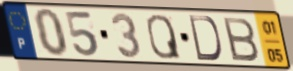0: (31, 7, 71, 59)
3: (109, 10, 142, 60)
5: (63, 10, 101, 59)
B: (221, 16, 261, 64)
D: (187, 13, 224, 62)
Q: (145, 13, 183, 61)
